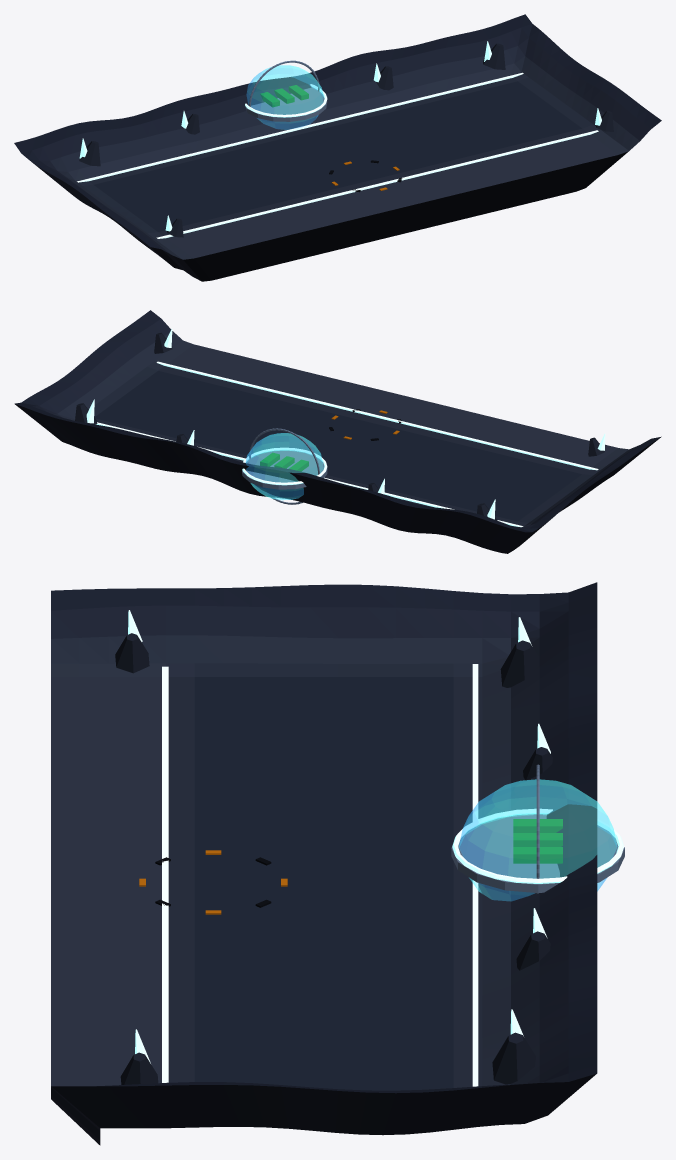
The model's file is sector3_lunar_biodome.glb.
3 renders of one model, top to bottom at view 1: azimuth 30°, elevation 25°; view 2: azimuth 150°, elevation 25°; view 3: azimuth 270°, elevation 25°, orthographic. The views are drawn at different scales.
Parts seen in each view (by area): view 1: Sector3LunarBiodome; view 2: Sector3LunarBiodome; view 3: Sector3LunarBiodome.
Part boxes in pixels (left/top/right/bottom): Sector3LunarBiodome: left=14, top=14, right=661, bottom=281; Sector3LunarBiodome: left=14, top=310, right=661, bottom=553; Sector3LunarBiodome: left=51, top=582, right=624, bottom=1145.
Bounding box in the file's own units: 32 × 5.65 × 15.55.
